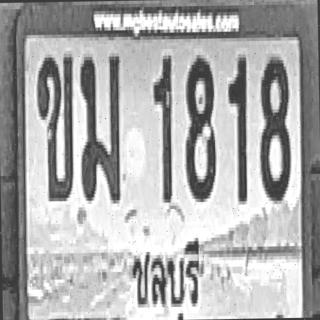A02: (36, 54, 75, 201)
A33: (79, 51, 122, 202)
N01: (152, 54, 174, 201), (228, 54, 248, 202)
N08: (258, 53, 290, 201), (184, 54, 216, 198)
P13: (124, 229, 204, 320)
